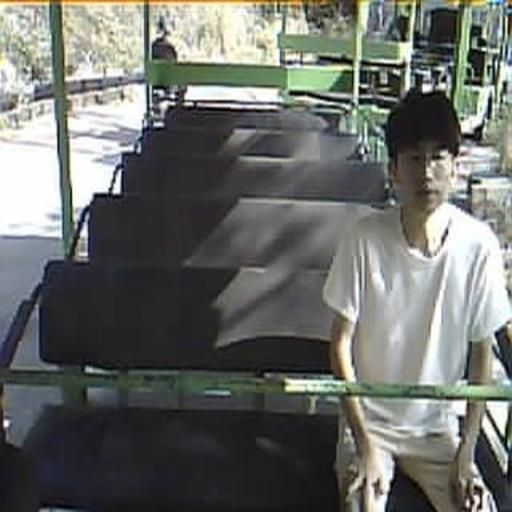persona: (321, 86, 511, 511)
